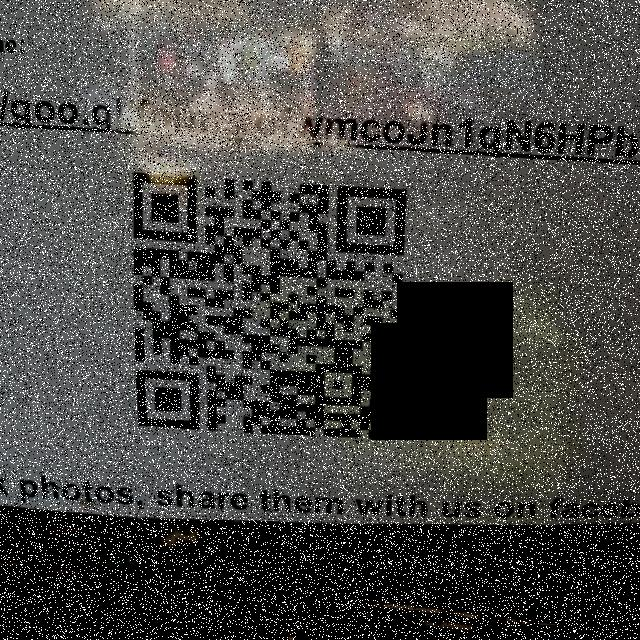QR_CODE: (108, 141, 418, 465)
